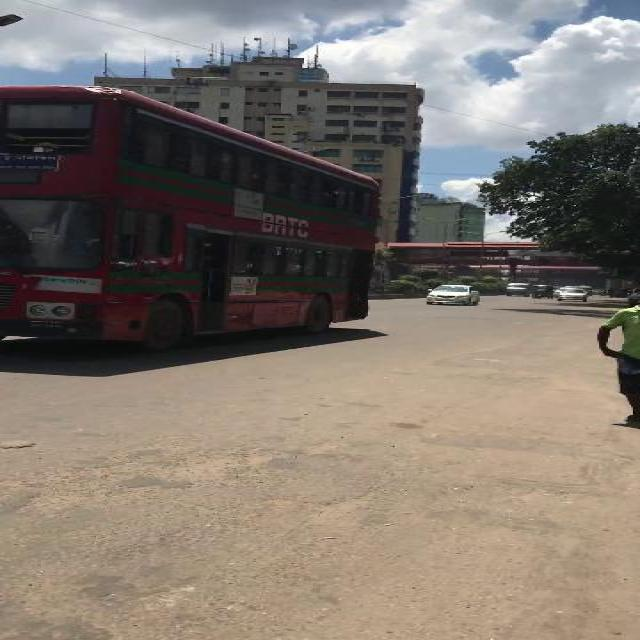bus: (0, 80, 386, 355)
car: (423, 284, 480, 306), (556, 287, 586, 301)
motorcycle: (532, 283, 551, 298)
truck: (501, 281, 528, 296)
